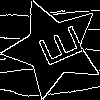E: (28, 23, 85, 73)
